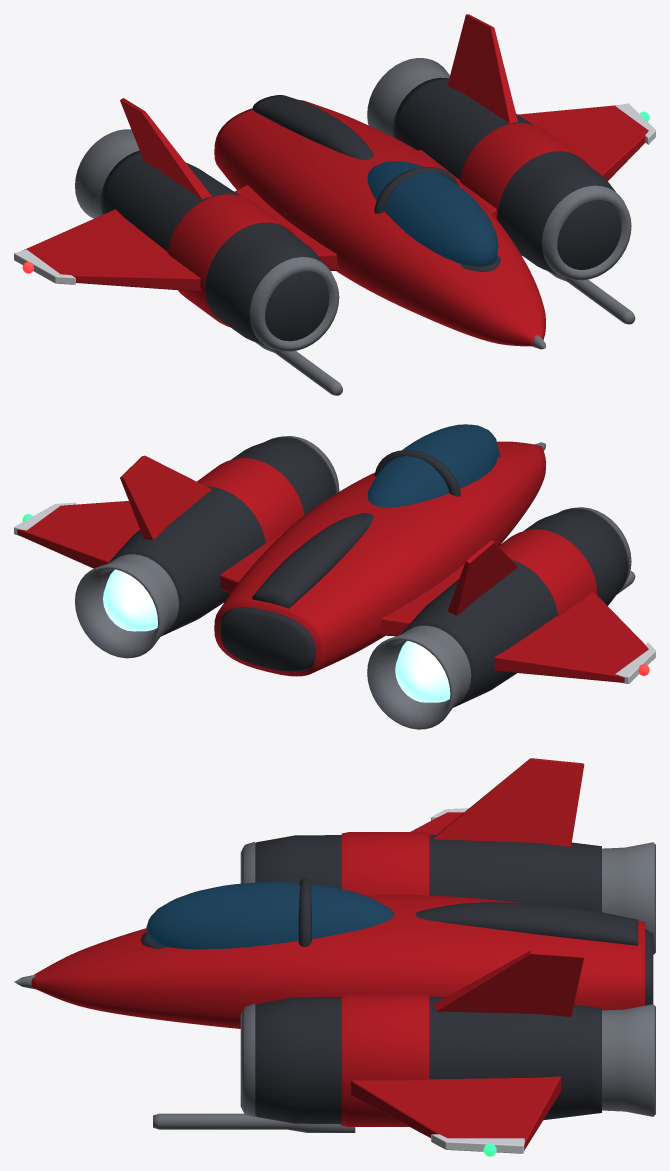
The model's file is ship.glb.
3 views of the same model, one above another, from view 1: azimuth 30°, elevation 25°; view 2: azimuth 150°, elevation 25°; view 3: azimuth 270°, elevation 25° (orthographic). The views are drawn at different scales.
Visible parts, largest first — view 1: ship_hull_red, ship_hull_dark, ship_steel, ship_canopy_glass, ship_trim_white; view 2: ship_hull_red, ship_hull_dark, ship_steel, ship_canopy_glass, ship_engine_glow, ship_trim_white; view 3: ship_hull_red, ship_hull_dark, ship_steel, ship_canopy_glass, ship_trim_white.
Boxes of the visible parts, bbox=[...] form: ship_hull_red: bbox=[22, 14, 648, 346]; ship_hull_dark: bbox=[100, 77, 621, 345]; ship_steel: bbox=[75, 58, 635, 395]; ship_canopy_glass: bbox=[367, 161, 498, 265]; ship_trim_white: bbox=[14, 103, 655, 284]; ship_hull_red: bbox=[17, 441, 648, 682]; ship_hull_dark: bbox=[108, 437, 628, 707]; ship_steel: bbox=[75, 436, 635, 729]; ship_canopy_glass: bbox=[367, 424, 498, 507]; ship_engine_glow: bbox=[103, 569, 450, 702]; ship_trim_white: bbox=[14, 502, 655, 683]; ship_hull_red: bbox=[31, 758, 645, 1149]; ship_hull_dark: bbox=[141, 834, 653, 1124]; ship_steel: bbox=[14, 842, 655, 1132]; ship_canopy_glass: bbox=[146, 882, 394, 949]; ship_trim_white: bbox=[431, 808, 524, 1153].
Bounding box in the file's own units: 6.08 × 1.61 × 4.76.
